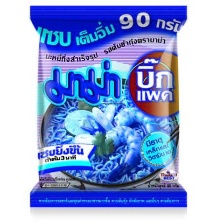snack: (20, 0, 195, 213)
